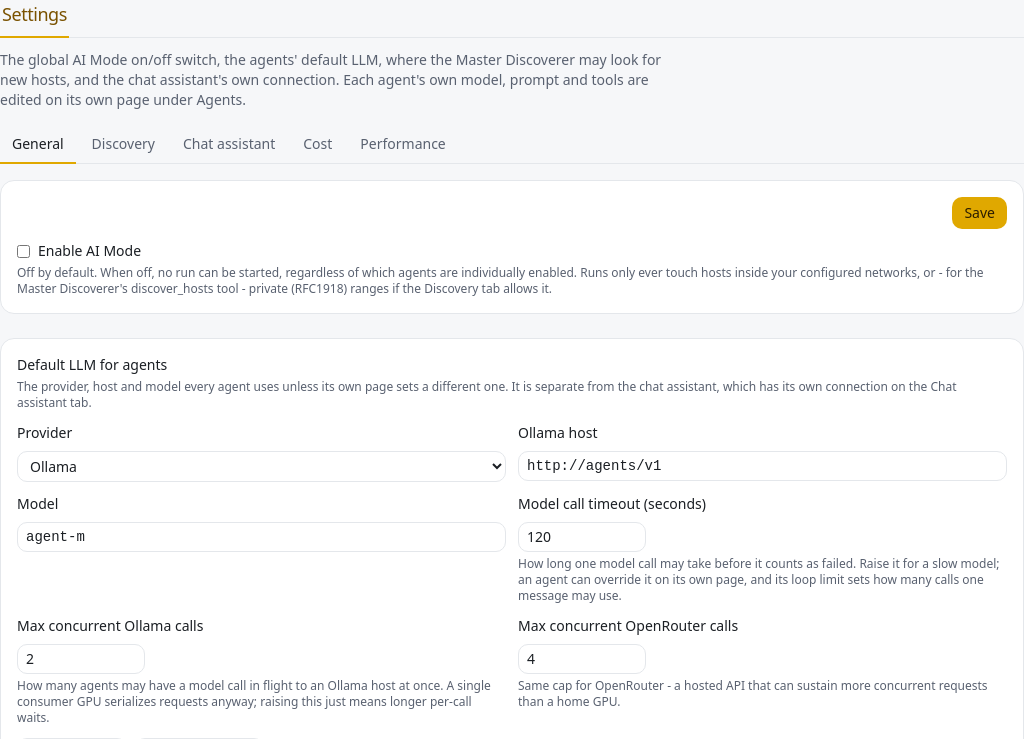
AiConfigPage › shows the moved Cost tab and the new Performance tab
Click the tab "Cost" at {"x": 318, "y": 145}, box [291,126,344,164]
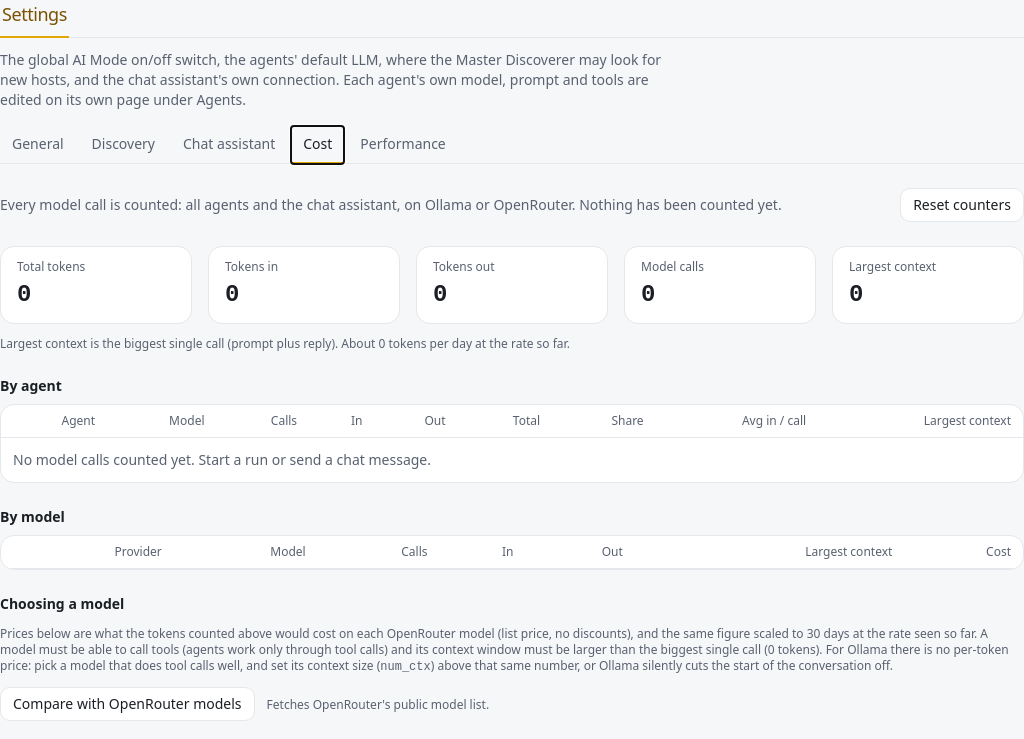
Expected: the button "Reset counters" is shown, [900,188,1023,222]
Click the tab "Performance" at {"x": 403, "y": 145}, box [348,126,458,164]
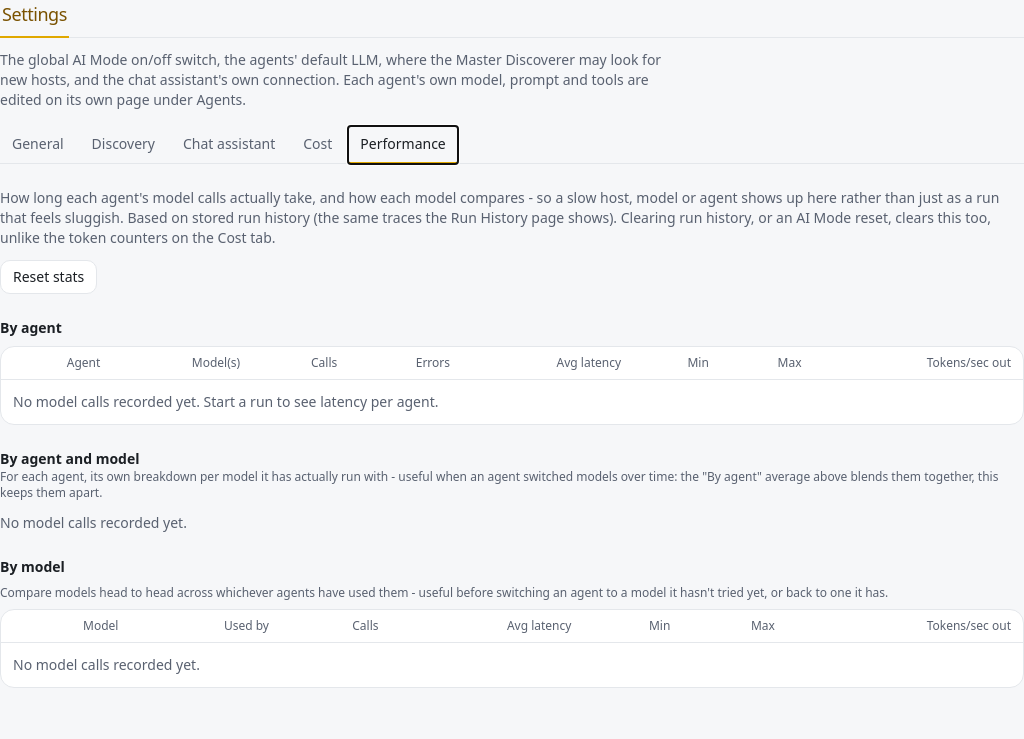
Expected: the text "No model calls recorded yet" is shown 3 times, [1,380,1023,424]; [0,513,187,532]; [1,642,1023,687]
